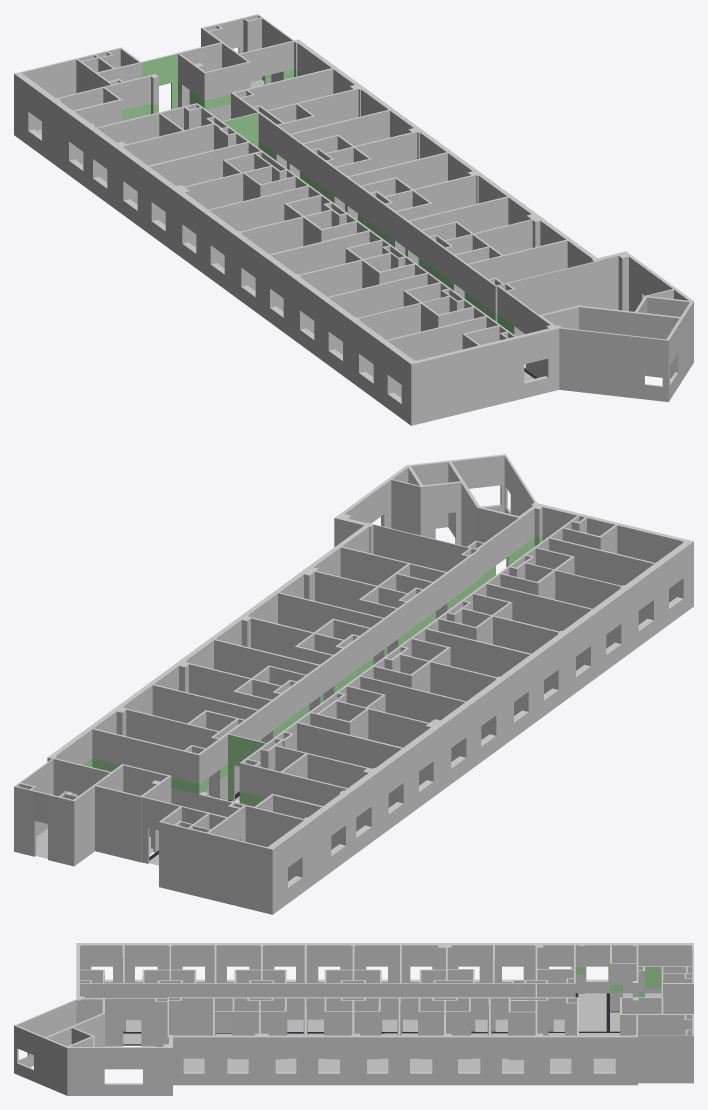
The model's file is Palata1Block.fbx.
3 renders of one model, top to bottom at view 1: azimuth 30°, elevation 25°; view 2: azimuth 150°, elevation 25°; view 3: azimuth 270°, elevation 25°, orthographic. The views are drawn at different scales.
Visible parts, largest first — view 1: Plane; view 2: Plane; view 3: Plane.
Part boxes in pixels (x1=…): Plane: x1=14, y1=14, x2=693, y2=425; Plane: x1=14, y1=454, x2=693, y2=914; Plane: x1=14, y1=943, x2=693, y2=1095.
Bounding box in the file's own units: 1982 × 421 × 5423.
